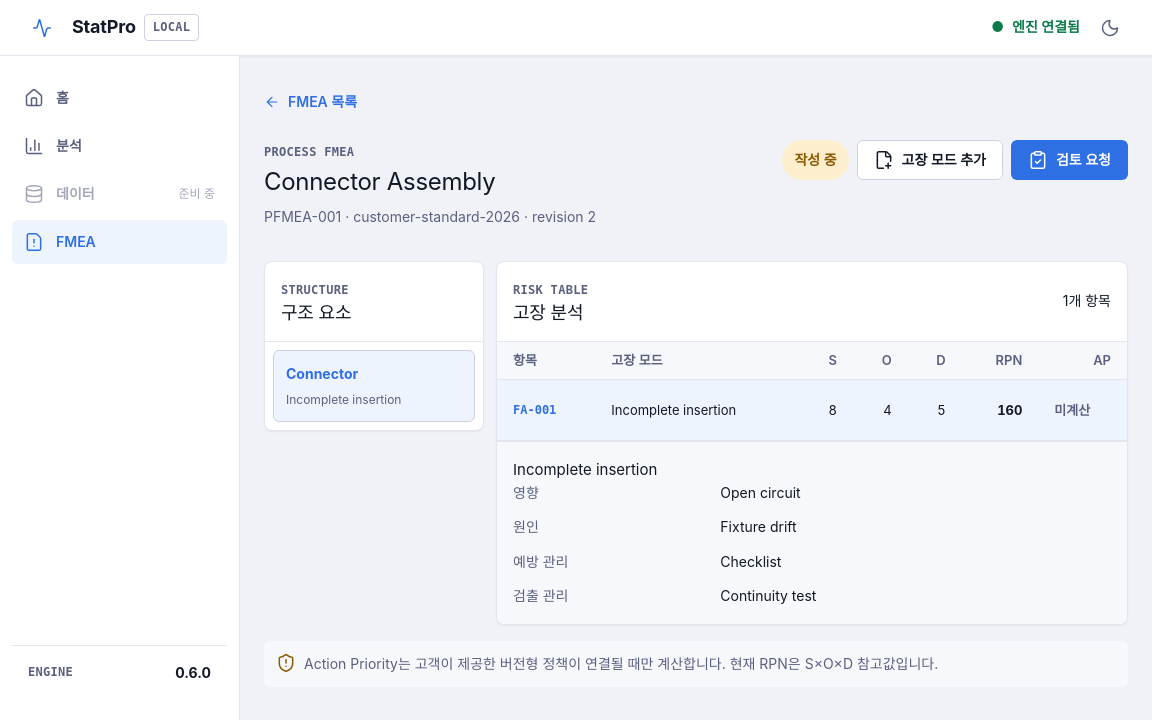
Test: StatPro UI › submits the current FMEA revision for review
This screenshot has width=1152, height=720.
Click the button "검토 요청" at (1069, 160), box [1011, 140, 1128, 180]
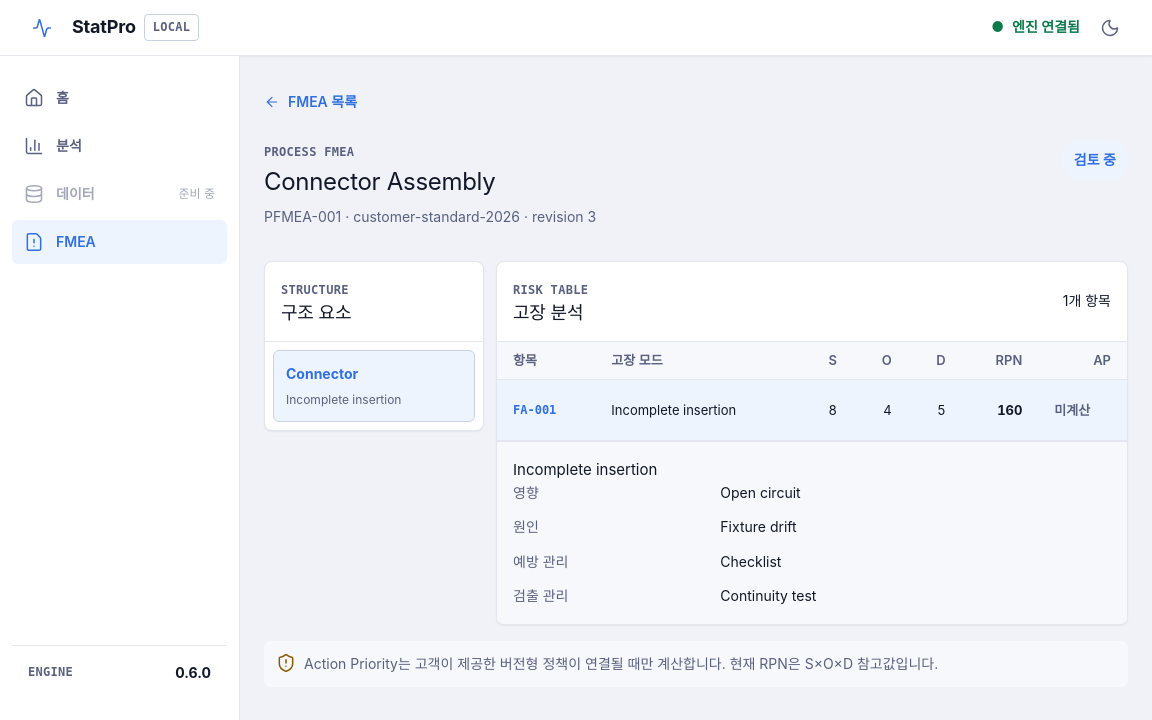
Now the text "검토 중" is shown, box [1062, 140, 1128, 180]
